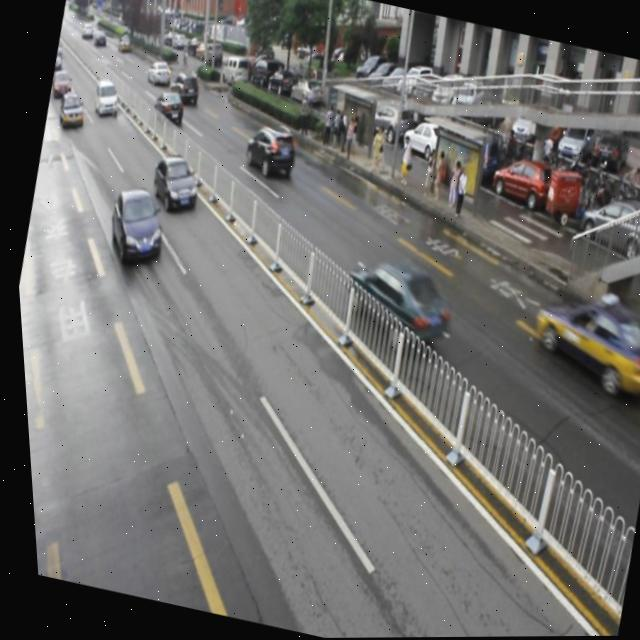car: (516, 279, 640, 407), (330, 250, 457, 359), (97, 183, 171, 270), (236, 119, 300, 183), (144, 150, 203, 215), (88, 77, 124, 120), (54, 86, 89, 130), (150, 88, 187, 127), (166, 70, 202, 107)
